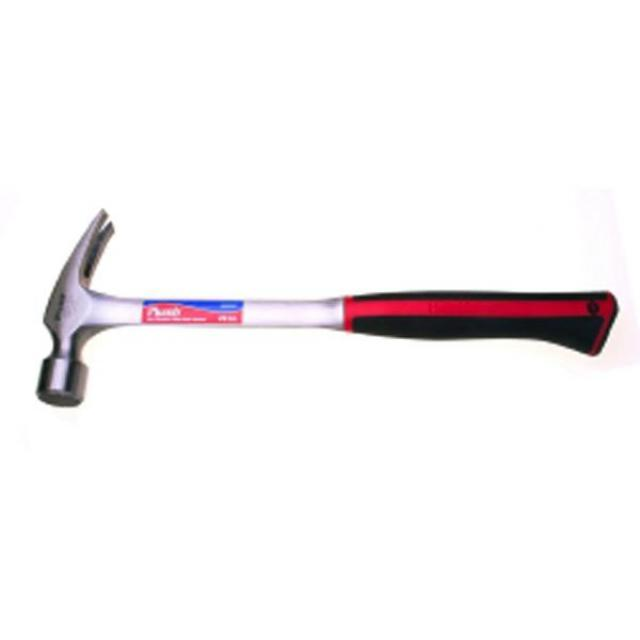hammer: (10, 204, 628, 416)
